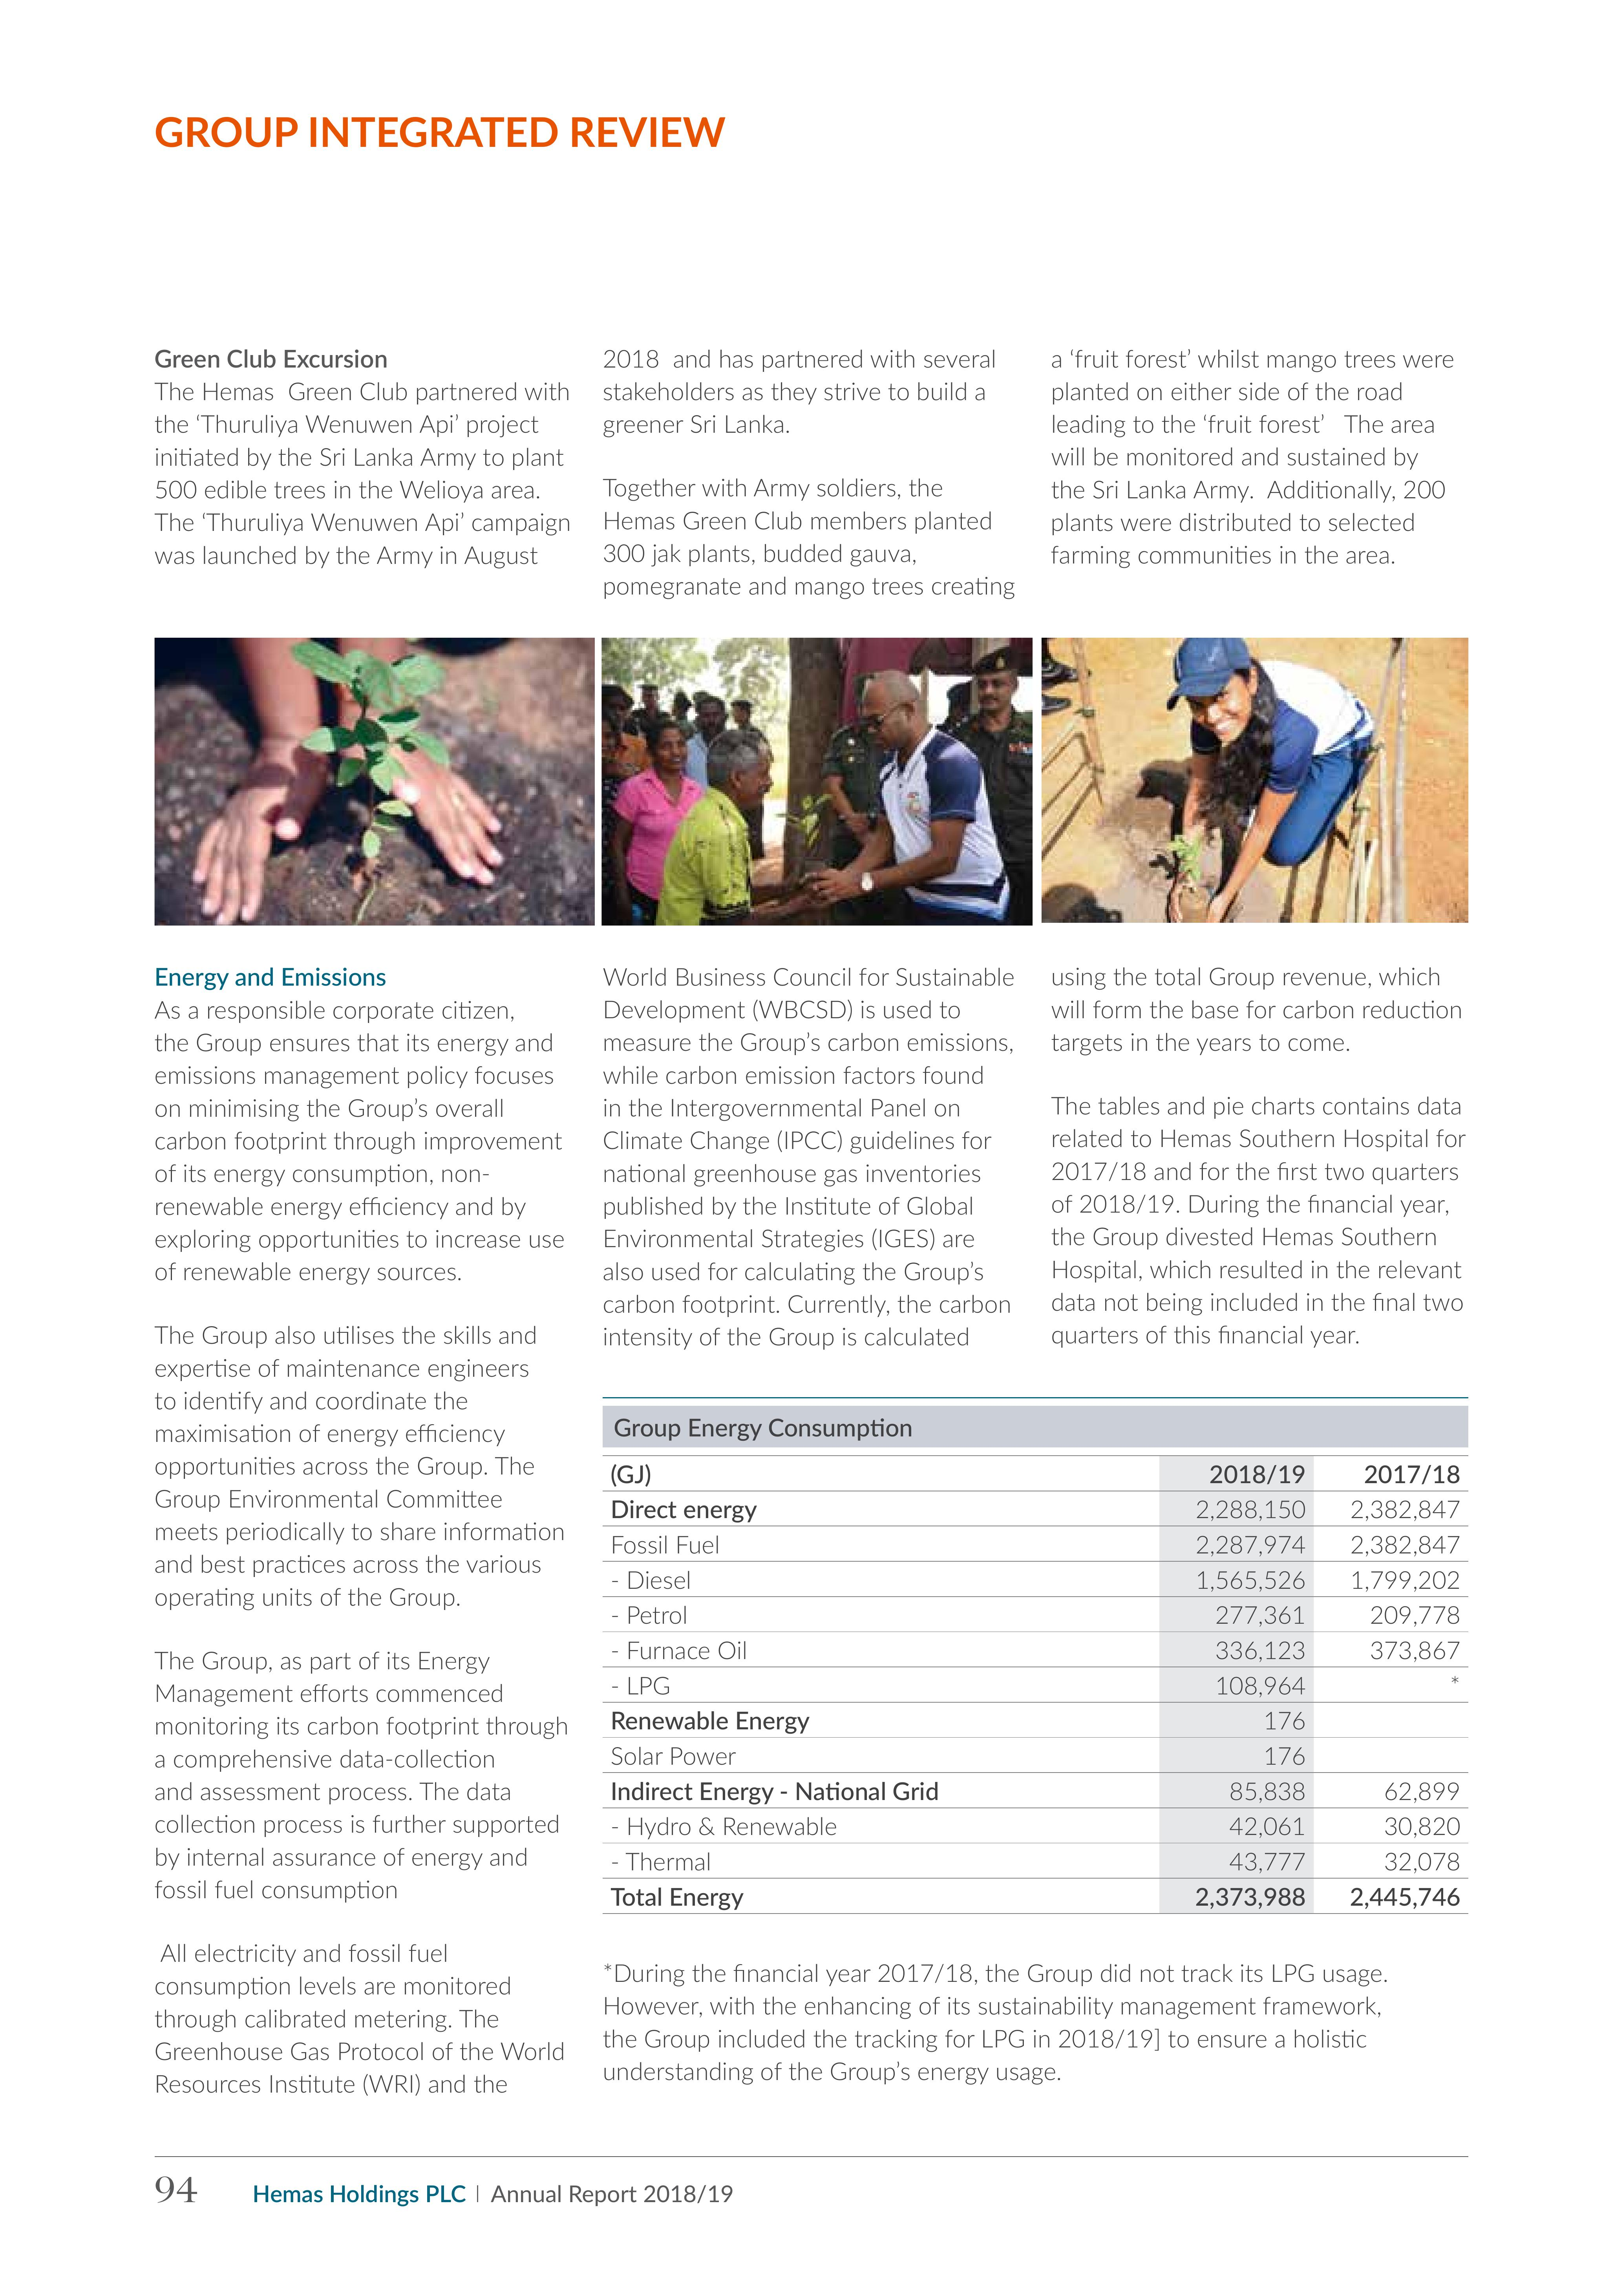table: (588, 1386, 1481, 1934)
